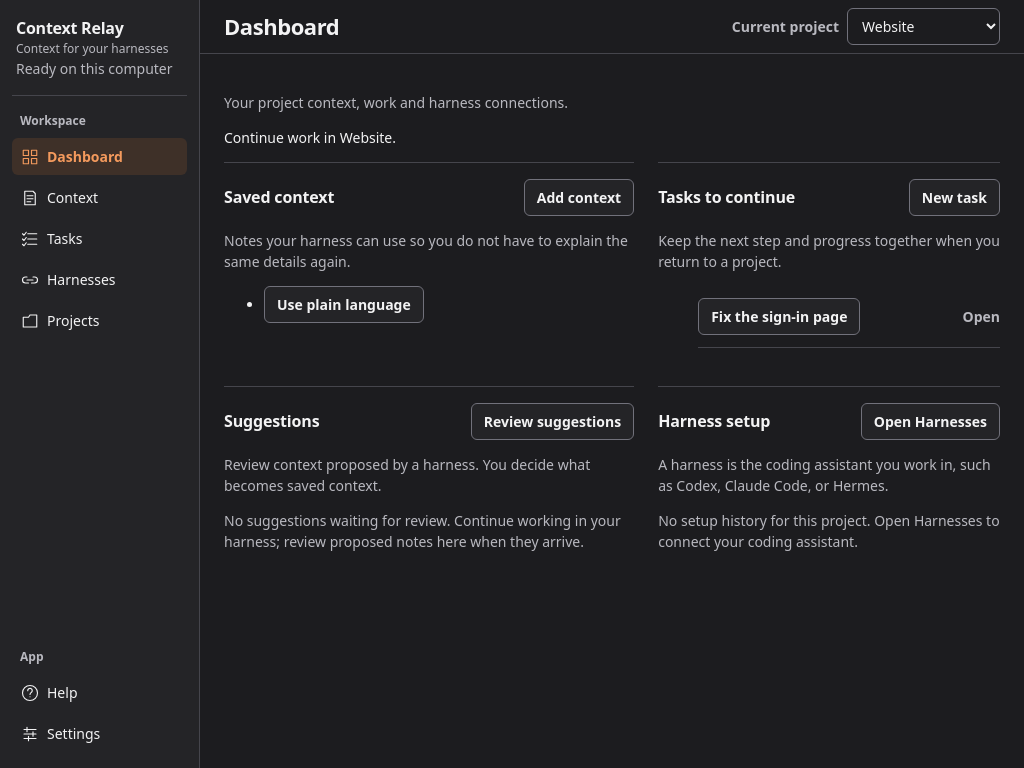
Test case: contains an inline screen-render failure and names the failing screen
Expected: the button "Use plain language" is shown, [264,286,424,323]
Click the button "Tasks". click: (100, 238)
box: [12,220,187,257]
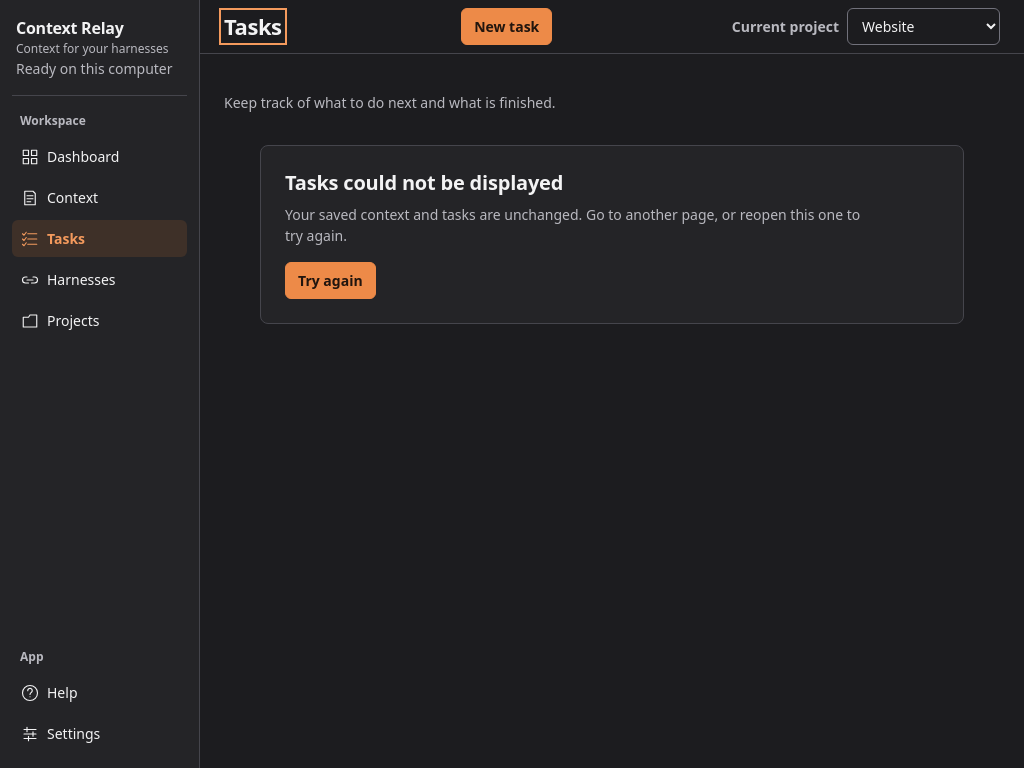
Expected: the navigation bar "Workspace" is shown, [12,112,187,752]
Expected: the heading "Tasks could not be displayed" is shown, [285,169,563,196]
Click the button "Projects". click: (100, 320)
box: [12,302,187,339]
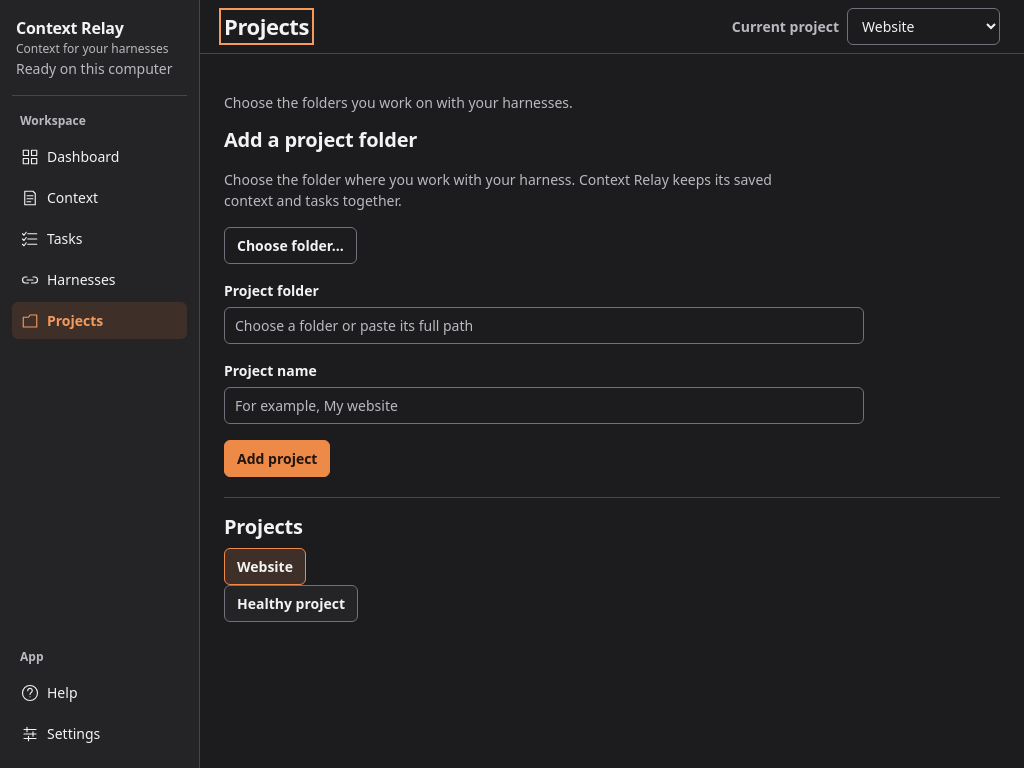
Expected: the field labelled "Project name" is shown, [224,387,864,424]
